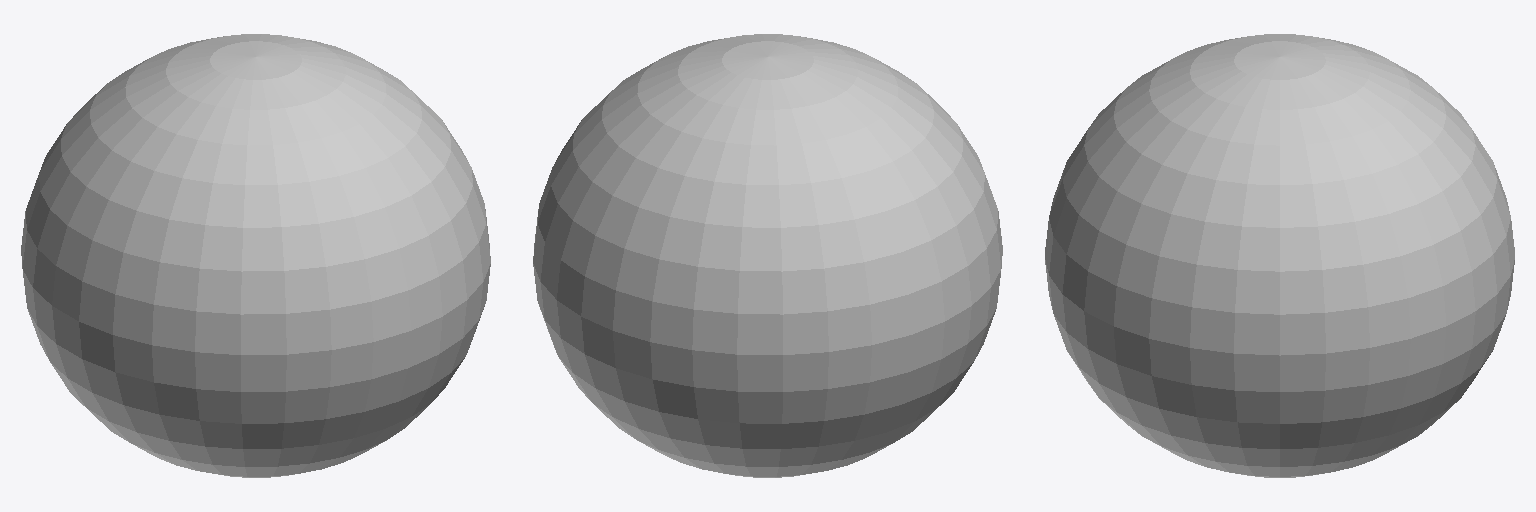
File: Glass.obj
3 renders of one model, left to right at view 1: azimuth 30°, elevation 25°; view 2: azimuth 150°, elevation 25°; view 3: azimuth 270°, elevation 25°, orthographic.
Visible parts, largest first — view 1: Sphere; view 2: Sphere; view 3: Sphere.
Boxes of the visible parts, x1,y1,x2,y2 form: Sphere: [21, 34, 490, 477]; Sphere: [533, 34, 1002, 477]; Sphere: [1045, 34, 1514, 477].
Bounding box in the file's own units: 1.5 × 1.4 × 1.5.